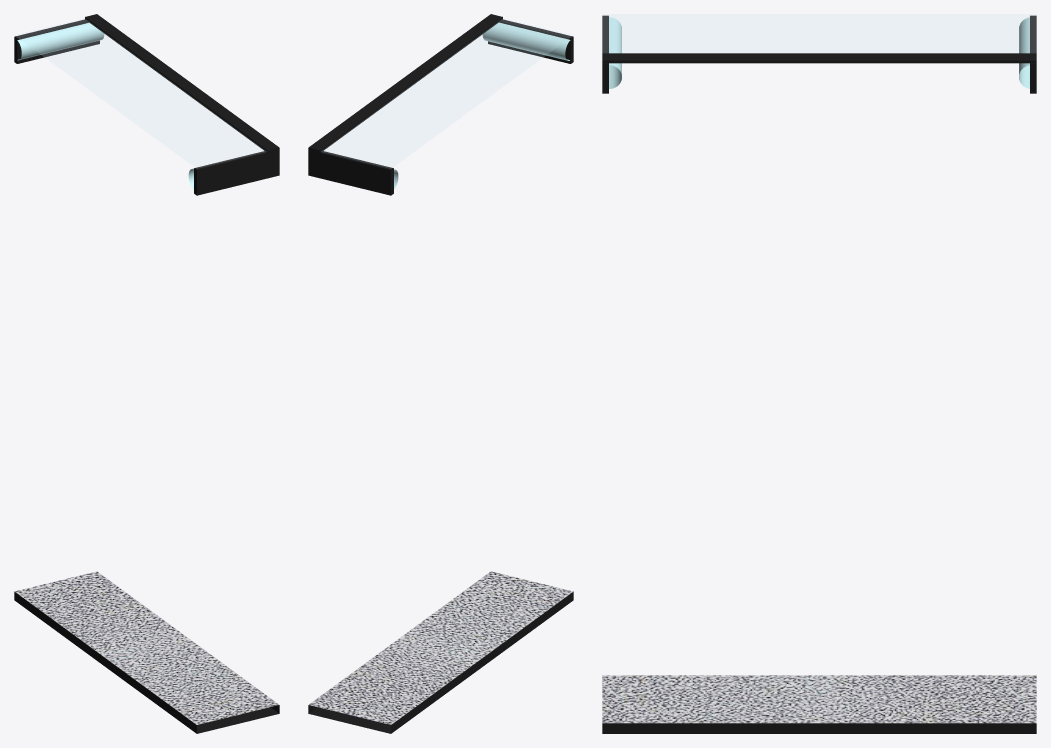
Rendered from ltd_30.obj.
The picture shows the model from 3 angles, left to right: view 1: azimuth 30°, elevation 25°; view 2: azimuth 150°, elevation 25°; view 3: azimuth 270°, elevation 25°; orthographic projection. The views are drawn at different scales.
Parts seen in each view (by area): view 1: Box269, Plane002, Box270, Box268, ltd_deng001, Box271; view 2: Box269, Plane002, Box270, Box271, ltd_deng001, Box268; view 3: Box269, Plane002, Box270, ltd_deng001.
Boxes of the visible parts, x1=… form: Box269: x1=14, y1=571, x2=279, y2=733; Plane002: x1=15, y1=19, x2=266, y2=168; Box270: x1=85, y1=14, x2=279, y2=152; Box268: x1=194, y1=150, x2=279, y2=195; ltd_deng001: x1=17, y1=22, x2=193, y2=189; Box271: x1=14, y1=19, x2=99, y2=63; Box269: x1=308, y1=571, x2=573, y2=733; Plane002: x1=321, y1=19, x2=572, y2=168; Box270: x1=308, y1=14, x2=502, y2=152; Box271: x1=308, y1=150, x2=393, y2=195; ltd_deng001: x1=394, y1=22, x2=570, y2=188; Box268: x1=488, y1=19, x2=573, y2=63; Box269: x1=602, y1=675, x2=1036, y2=733; Plane002: x1=603, y1=14, x2=1035, y2=52; Box270: x1=602, y1=53, x2=1036, y2=63; ltd_deng001: x1=609, y1=17, x2=1029, y2=88.
Bounding box in the file's own units: 34 × 222 × 130.
4 materials, 1 textured.
